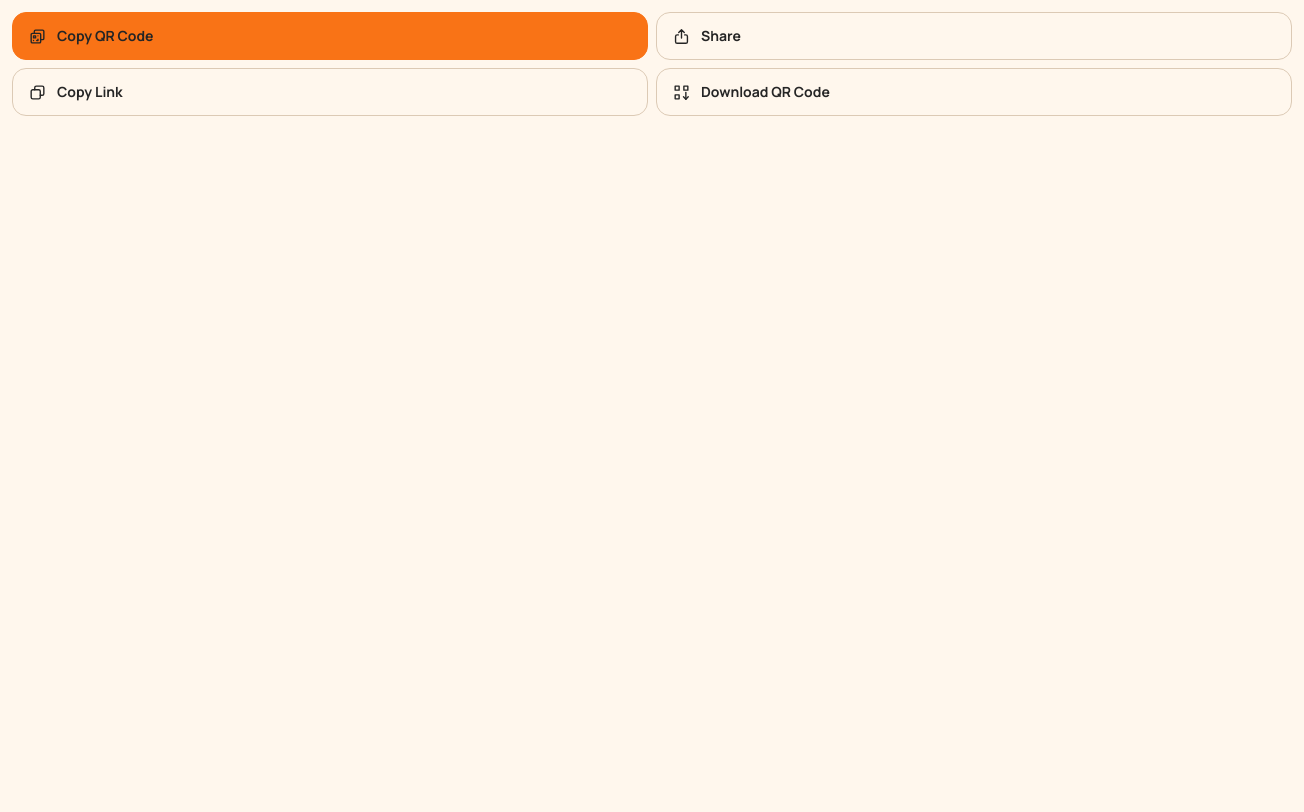
Test: QR actions › falls back to copying the link when native sharing is unavailable
The width and height of the screenshot is (1304, 812).
Click the button with test id "share".
click(721, 36)  # box [656,12,1292,60]
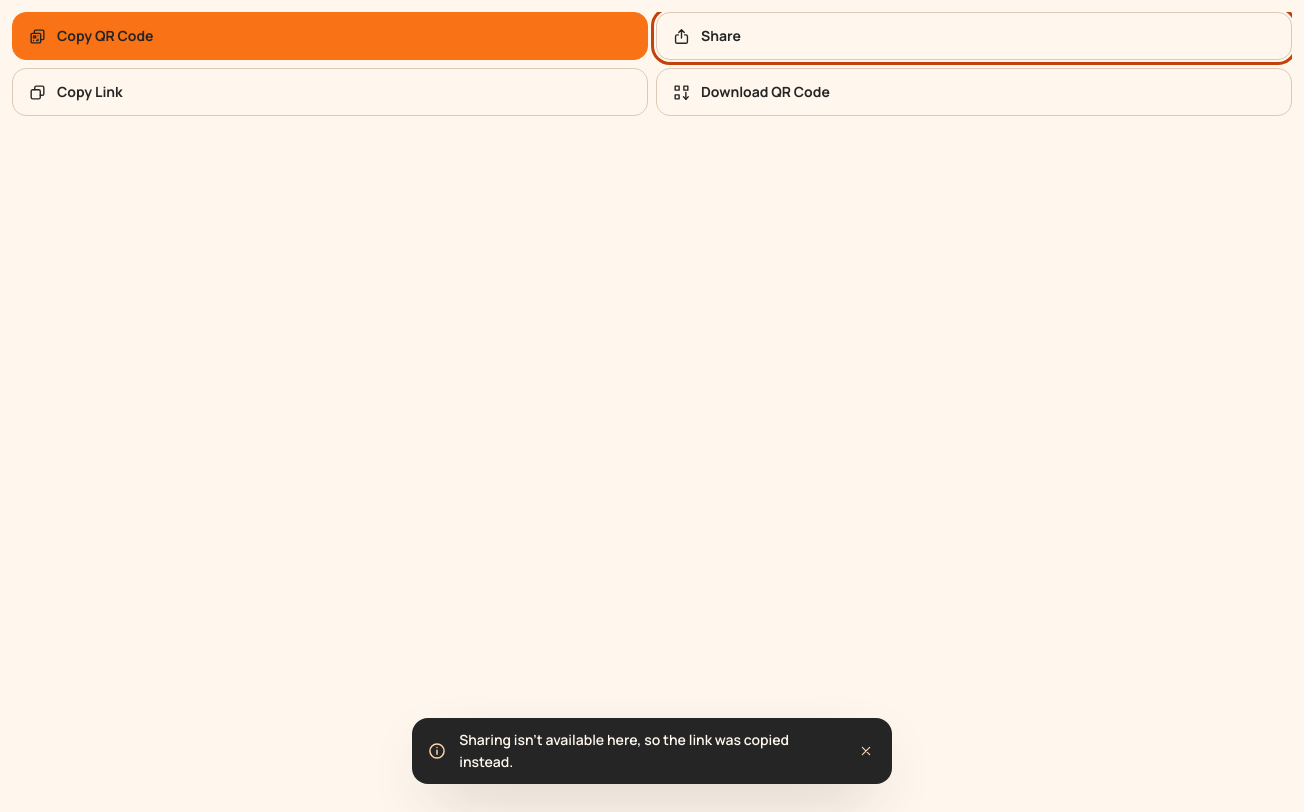
Now the text "Sharing isn’t available here, so the link was copied instead" is shown, box [459,730,789,771]
